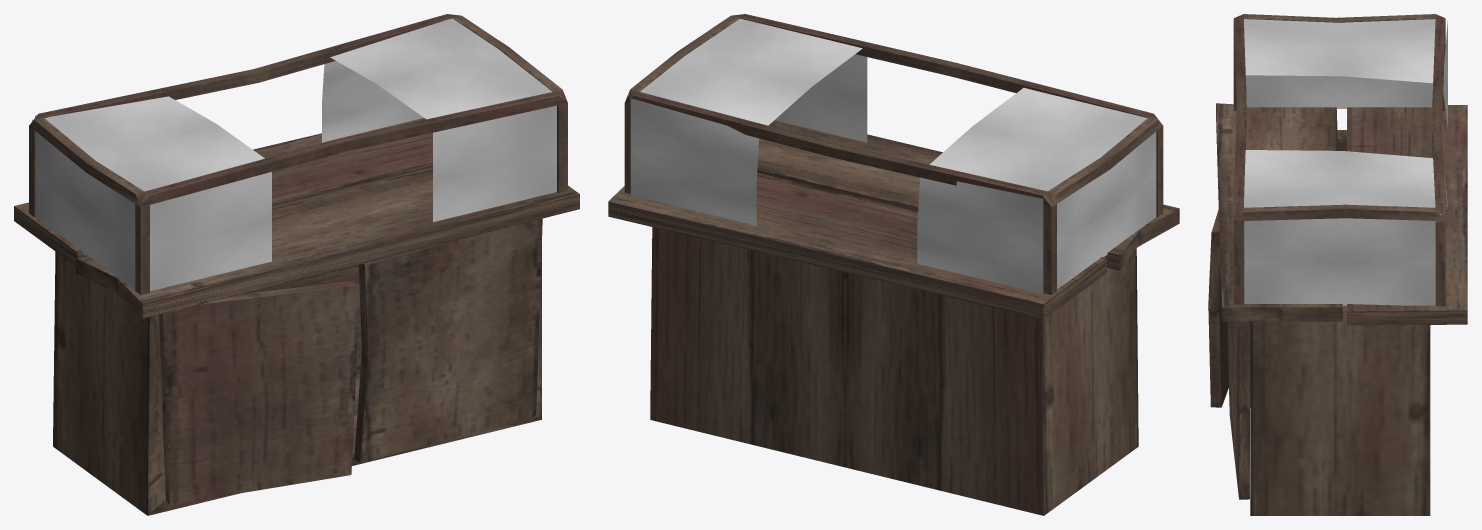
File: cabinet_jeweler_shanty_cabinetShort.fbx
The picture shows the model from 3 angles, left to right: view 1: azimuth 30°, elevation 25°; view 2: azimuth 150°, elevation 25°; view 3: azimuth 270°, elevation 25°; orthographic projection. The views are drawn at different scales.
Parts seen in each view (by area): view 1: cabinet_glass, cabinet_door1, cabinet_door2, cabinet_base, cabinet_tabletop2, cabinet_glassFrame, cabinet_tabletop1; view 2: cabinet_base, cabinet_glass, cabinet_tabletop1, cabinet_glassFrame, cabinet_tabletop2; view 3: cabinet_glass, cabinet_base, cabinet_tabletop1, cabinet_glassFrame, cabinet_tabletop2, cabinet_door2, cabinet_door1.
Part boxes in pixels (x1,y1,x2,y2): cabinet_glass: (32, 18, 556, 291); cabinet_door1: (159, 280, 358, 504); cabinet_door2: (354, 218, 542, 462); cabinet_base: (53, 245, 541, 515); cabinet_tabletop2: (76, 168, 579, 318); cabinet_glassFrame: (29, 14, 567, 295); cabinet_tabletop1: (14, 118, 432, 265); cabinet_base: (650, 227, 1138, 515); cabinet_glass: (628, 18, 1156, 293); cabinet_tabletop1: (608, 172, 1106, 319); cabinet_glassFrame: (624, 14, 1163, 294); cabinet_tabletop2: (757, 120, 1179, 270); cabinet_glass: (1244, 19, 1447, 305); cabinet_base: (1250, 130, 1430, 515); cabinet_tabletop1: (1347, 105, 1467, 325); cabinet_glassFrame: (1233, 14, 1445, 306); cabinet_tabletop2: (1216, 103, 1342, 321); cabinet_door2: (1227, 321, 1250, 499); cabinet_door1: (1208, 210, 1228, 407).
Bounding box in the file's own units: 573 × 403 × 300.
Materials: 2 (2 with a texture image).
